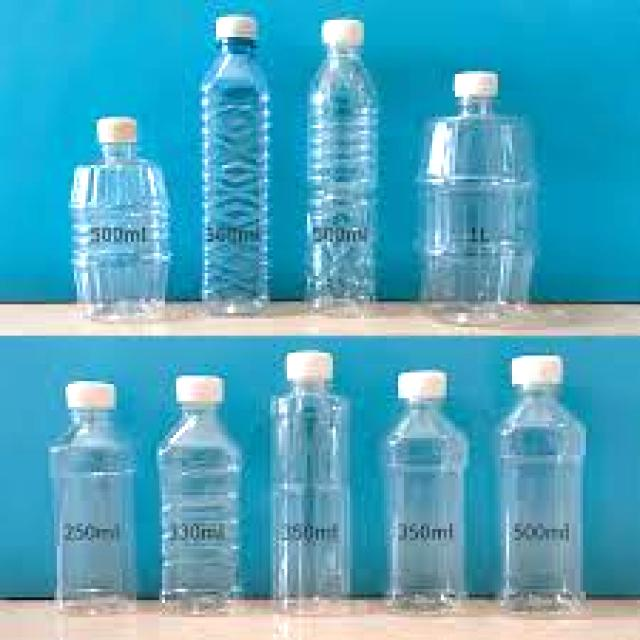Plastic: (414, 66, 544, 330), (301, 16, 386, 322), (194, 13, 278, 322), (267, 347, 359, 621), (496, 352, 588, 624), (154, 371, 250, 622), (44, 376, 141, 622), (67, 114, 176, 328), (381, 368, 471, 616)
